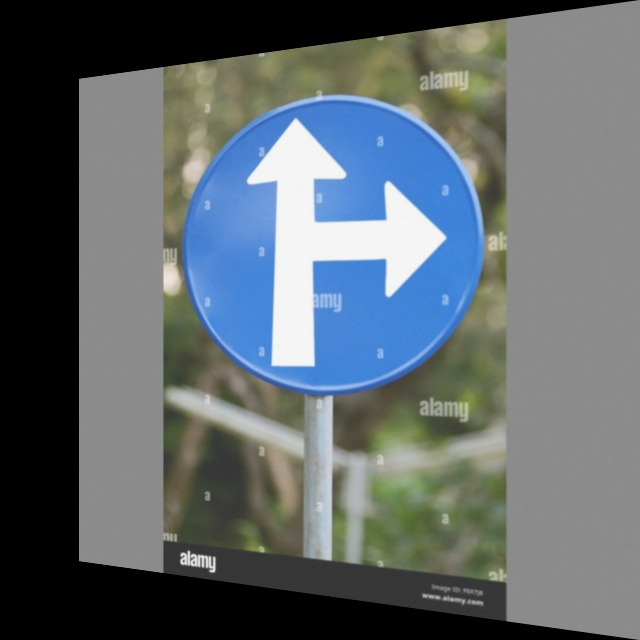Compulsory_Ahead_or_Turn_Right: (184, 76, 473, 396)
